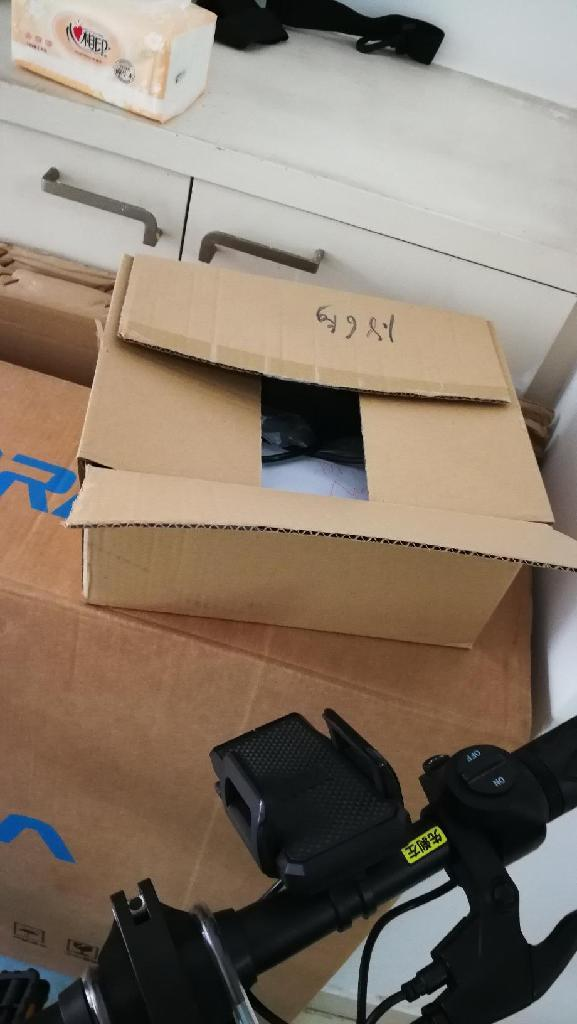cardboard: (77, 245, 577, 649)
